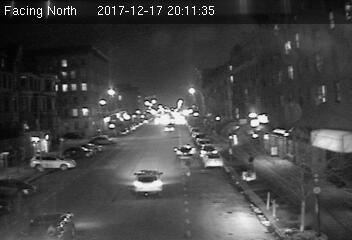car: (131, 170, 168, 195), (172, 144, 197, 161), (202, 151, 223, 167)
